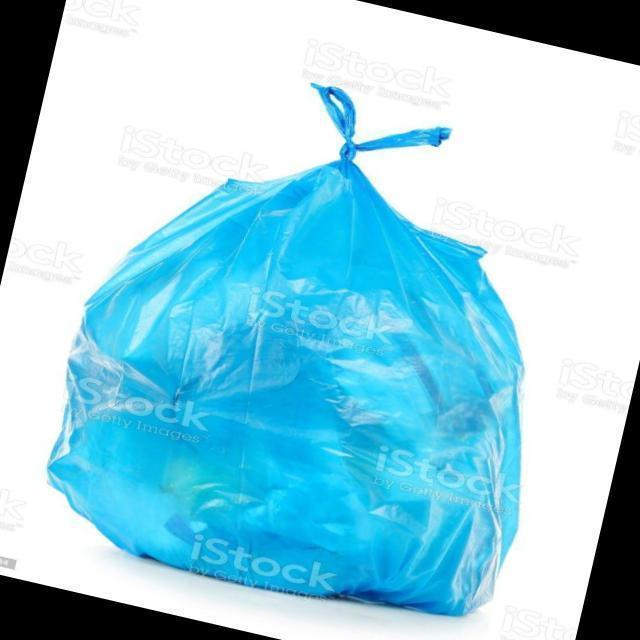Garbage_Bag: (19, 34, 602, 640)
